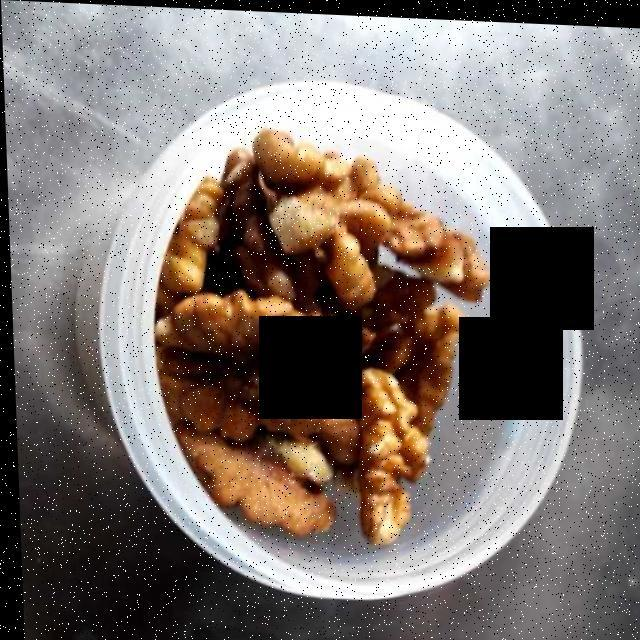walnut: (156, 135, 485, 539)
